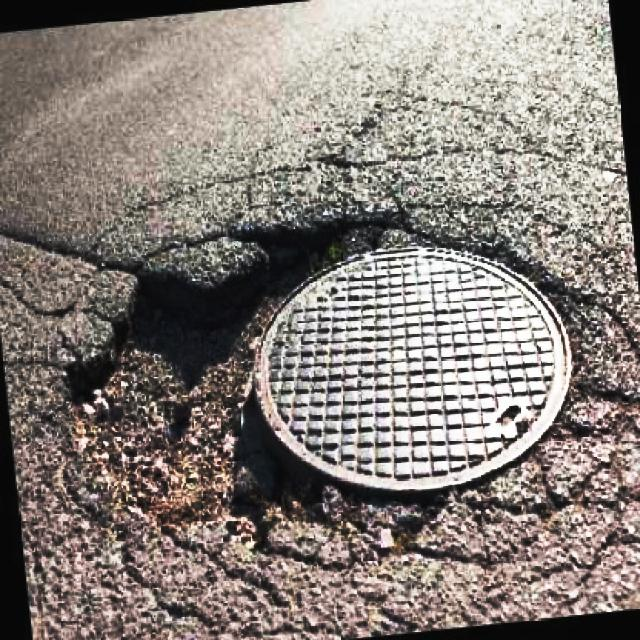pothole: (63, 207, 400, 538)
